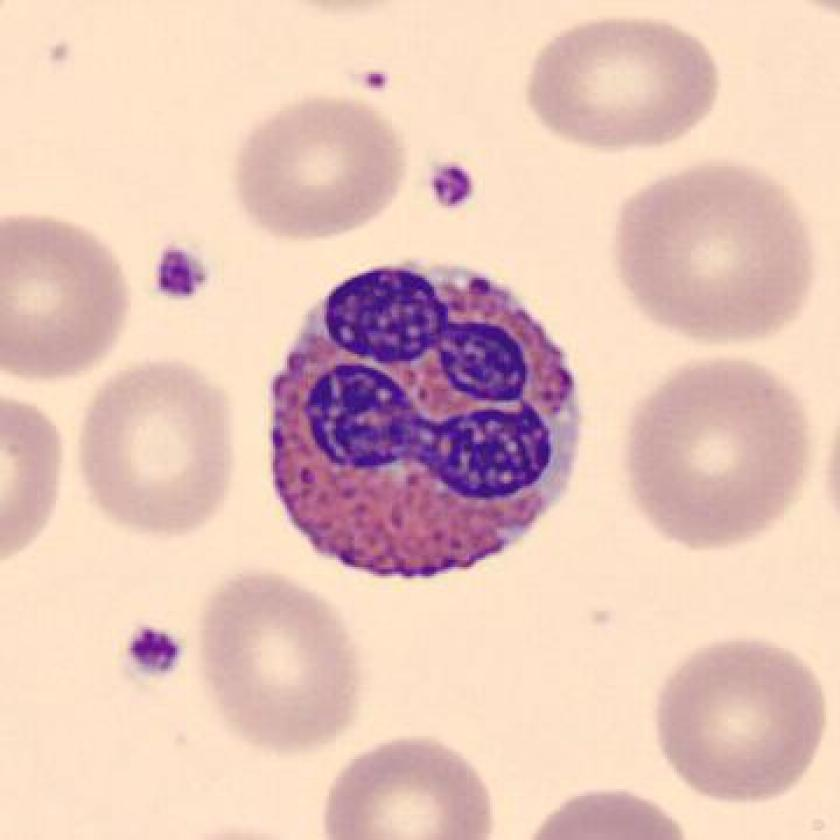eosinophil: (258, 239, 594, 598)
